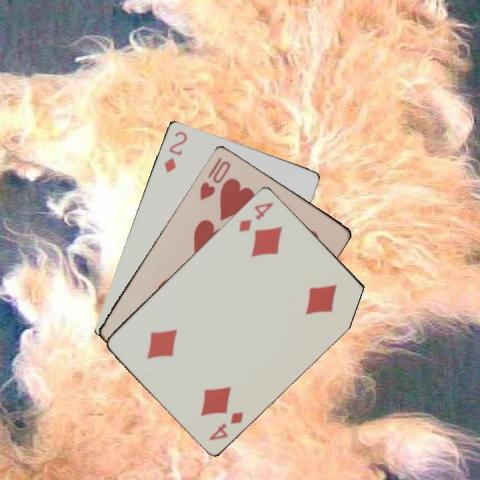10h: (197, 153, 232, 201)
2d: (160, 128, 188, 174)
4d: (236, 199, 276, 233), (206, 408, 246, 442)
